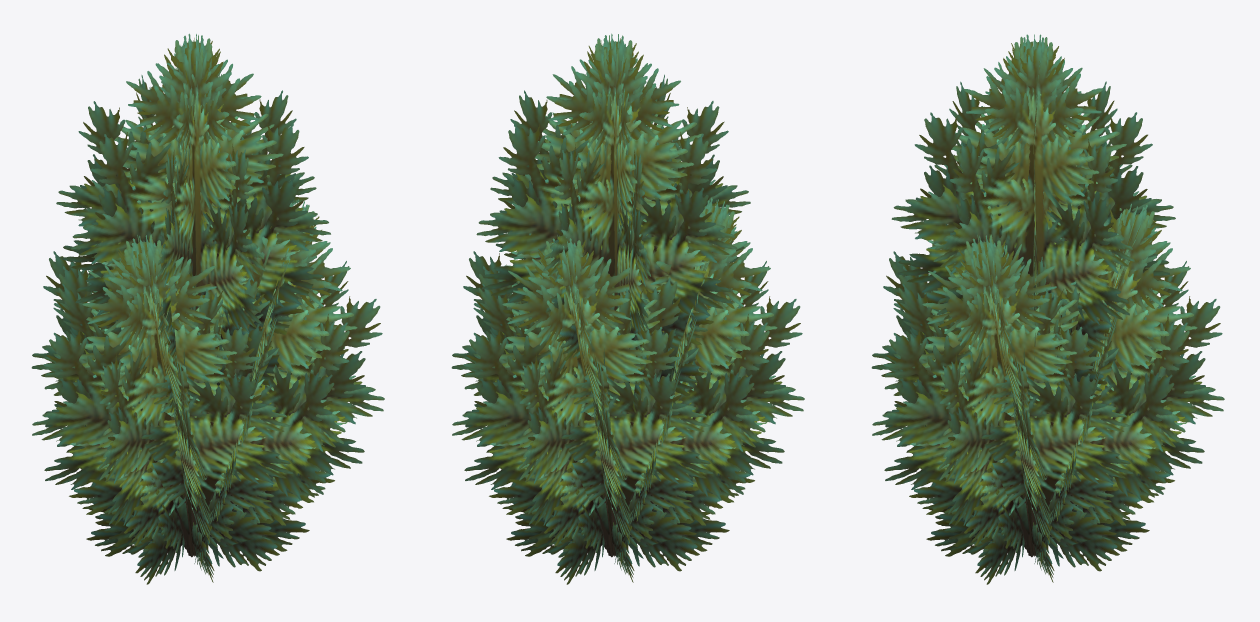
File: HP3_pineBig4 1.fbx
3 renders of one model, left to right at view 1: azimuth 30°, elevation 25°; view 2: azimuth 150°, elevation 25°; view 3: azimuth 270°, elevation 25°, orthographic.
Visible parts, largest first — view 1: HP3_pineBig4; view 2: HP3_pineBig4; view 3: HP3_pineBig4.
Part boxes in pixels (x1=…): HP3_pineBig4: x1=31, y1=33, x2=384, y2=584; HP3_pineBig4: x1=451, y1=33, x2=804, y2=584; HP3_pineBig4: x1=871, y1=34, x2=1224, y2=584.
Bounding box in the file's own units: 9.44 × 14.43 × 9.29.
